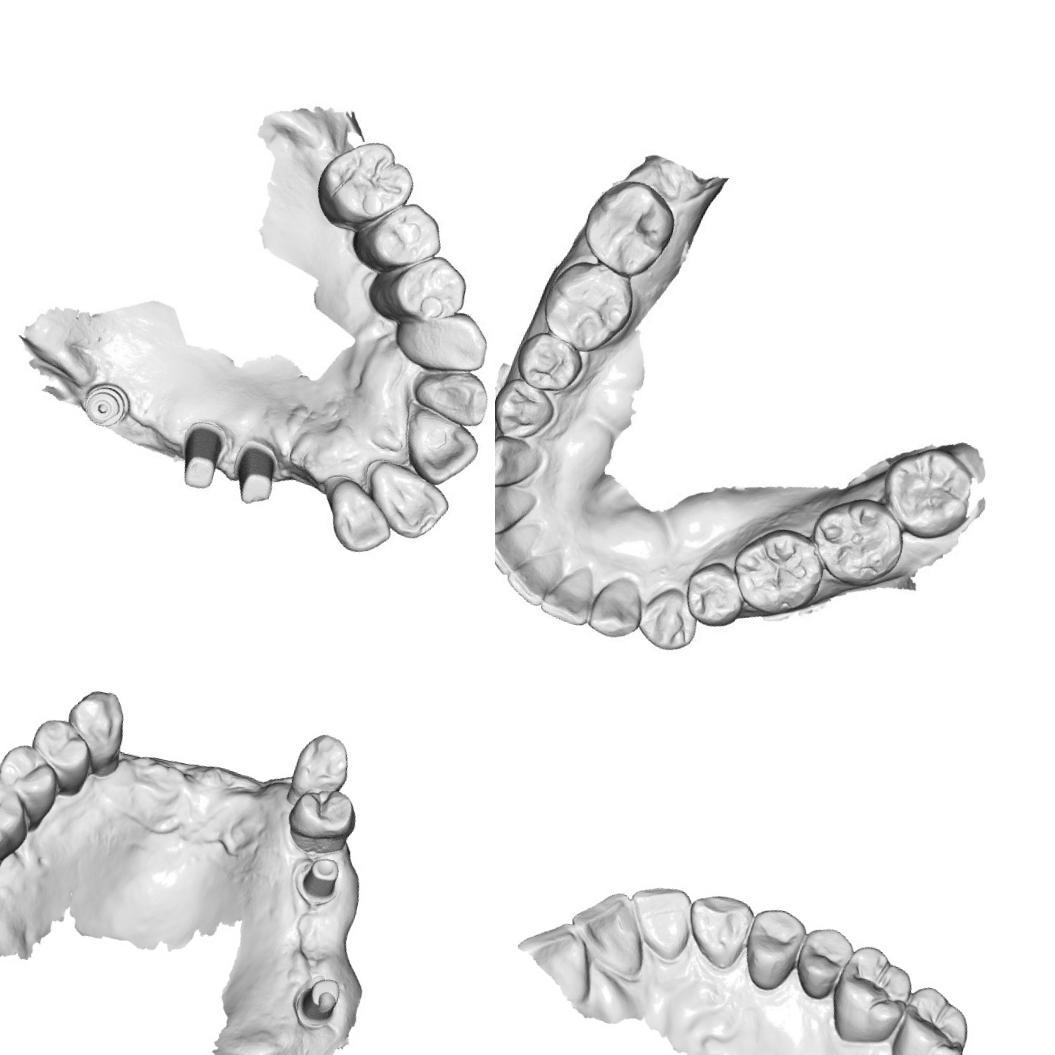abutment: (170, 413, 231, 495), (224, 429, 287, 507), (289, 850, 346, 912), (293, 971, 345, 1029)
canine: (678, 886, 756, 974), (58, 683, 132, 772), (396, 303, 486, 374), (288, 728, 356, 803), (586, 569, 648, 641), (495, 430, 550, 494)
implant: (76, 372, 140, 435)
incisor: (560, 882, 659, 984), (356, 456, 454, 542), (620, 878, 700, 965), (314, 470, 396, 554), (399, 406, 481, 484), (408, 360, 494, 426), (536, 564, 598, 631), (503, 541, 565, 605), (495, 516, 545, 580), (495, 481, 533, 538)
molar: (822, 939, 920, 1054), (722, 523, 826, 621), (580, 173, 680, 274), (316, 136, 416, 236), (808, 490, 912, 586), (875, 442, 977, 538), (542, 254, 638, 354), (886, 980, 980, 1055), (387, 248, 471, 330), (364, 199, 444, 276), (0, 765, 38, 867)
premolar: (280, 779, 364, 856), (739, 902, 808, 995), (22, 714, 99, 793), (790, 922, 855, 1004), (510, 328, 586, 393), (0, 738, 66, 812), (495, 375, 558, 443), (681, 558, 744, 626), (640, 589, 701, 651)
